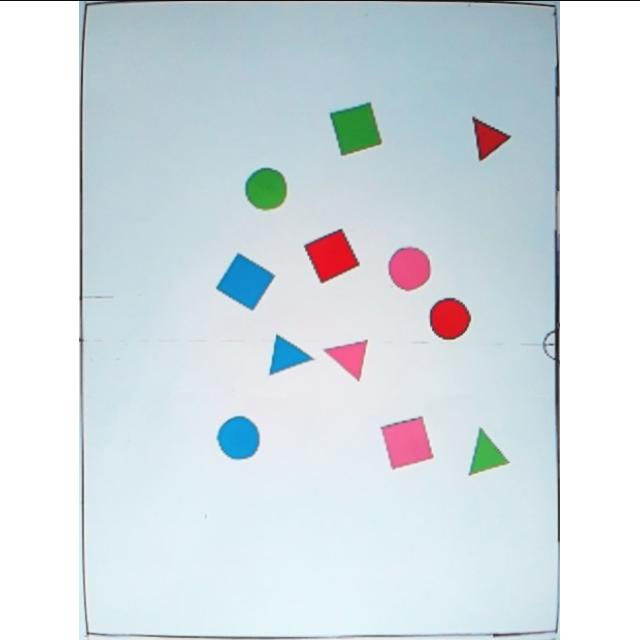blueCircle: (218, 414, 262, 460)
blueSquare: (216, 251, 278, 311)
blueTriangle: (266, 332, 318, 376)
greenCircle: (245, 166, 291, 210)
greenSquare: (328, 100, 386, 156)
greenTriangle: (468, 425, 512, 479)
pinkCircle: (389, 245, 433, 291)
pinkSquare: (380, 413, 436, 469)
pinkTriangle: (323, 338, 371, 382)
redCircle: (424, 296, 474, 340)
redSquare: (302, 227, 363, 286)
redTriangle: (466, 114, 514, 162)
